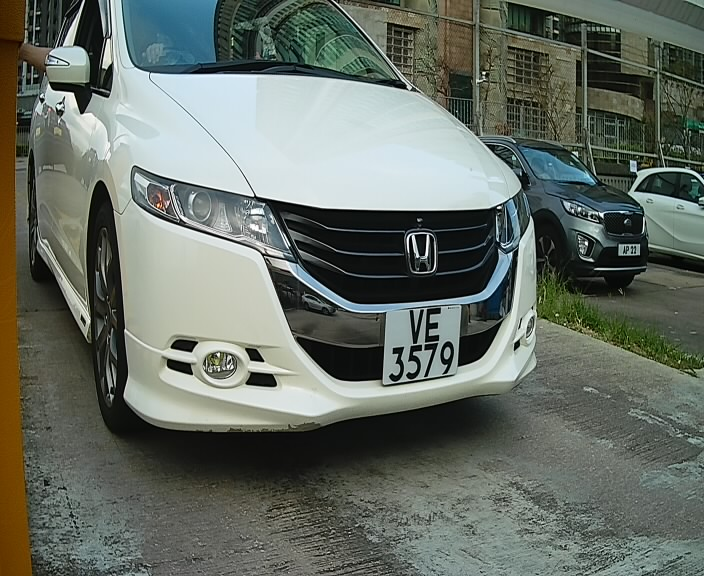Car: (19, 2, 554, 466)
License Plate: (379, 298, 467, 395)
